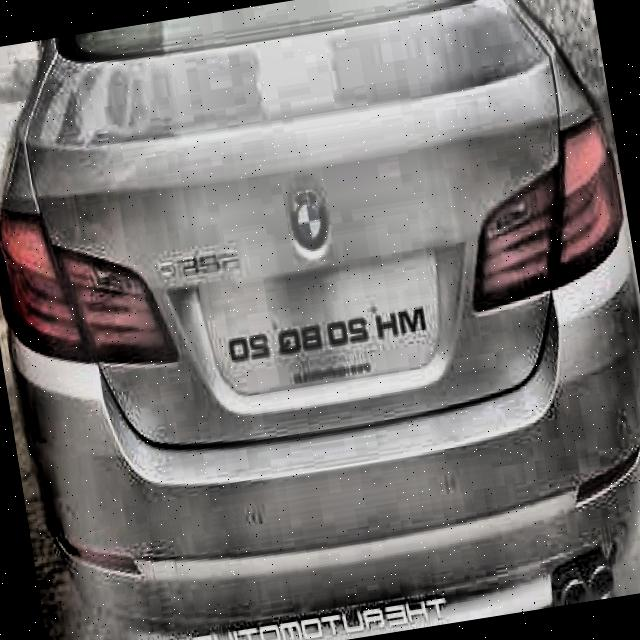license_plate: (211, 261, 450, 404)
